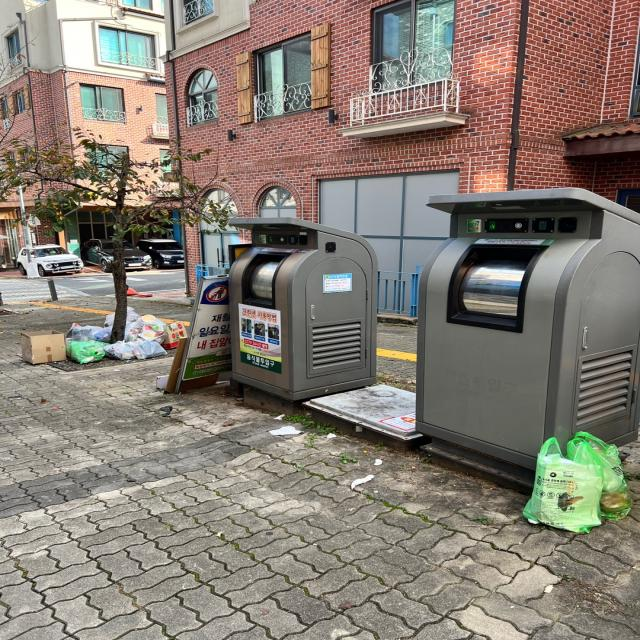CleanNet: (411, 186, 640, 468), (209, 210, 387, 416)
General Waste: (518, 429, 633, 535), (58, 303, 188, 370)
